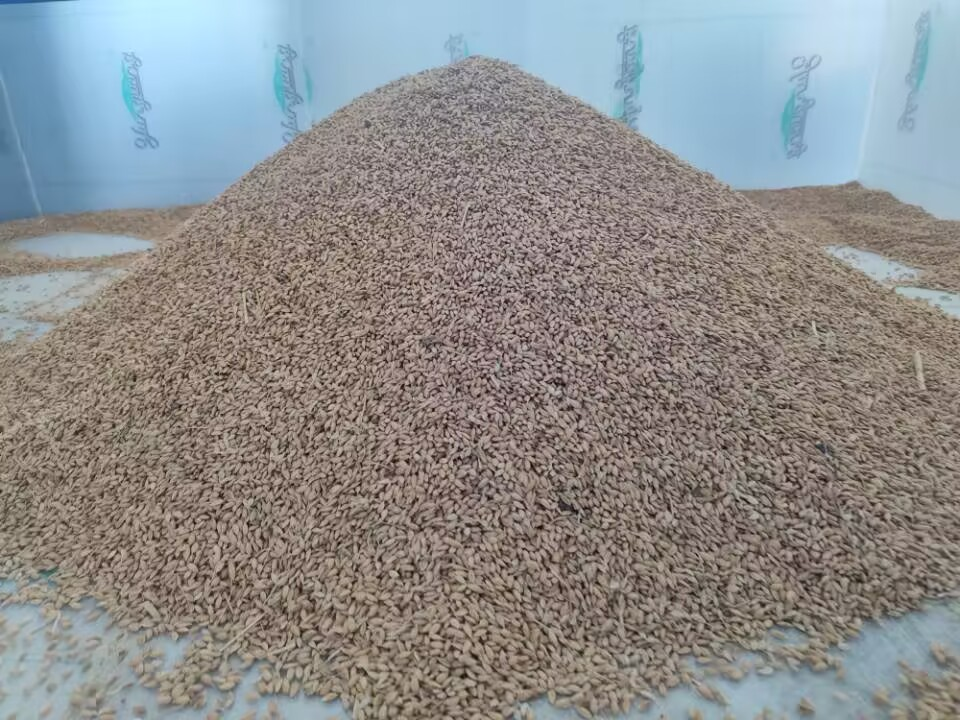Grain: (163, 46, 761, 589)
